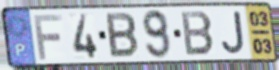4: (71, 12, 100, 61)
9: (140, 8, 173, 61)
B: (179, 10, 216, 57), (104, 12, 140, 60)
F: (32, 13, 65, 61)
J: (220, 10, 247, 56)
